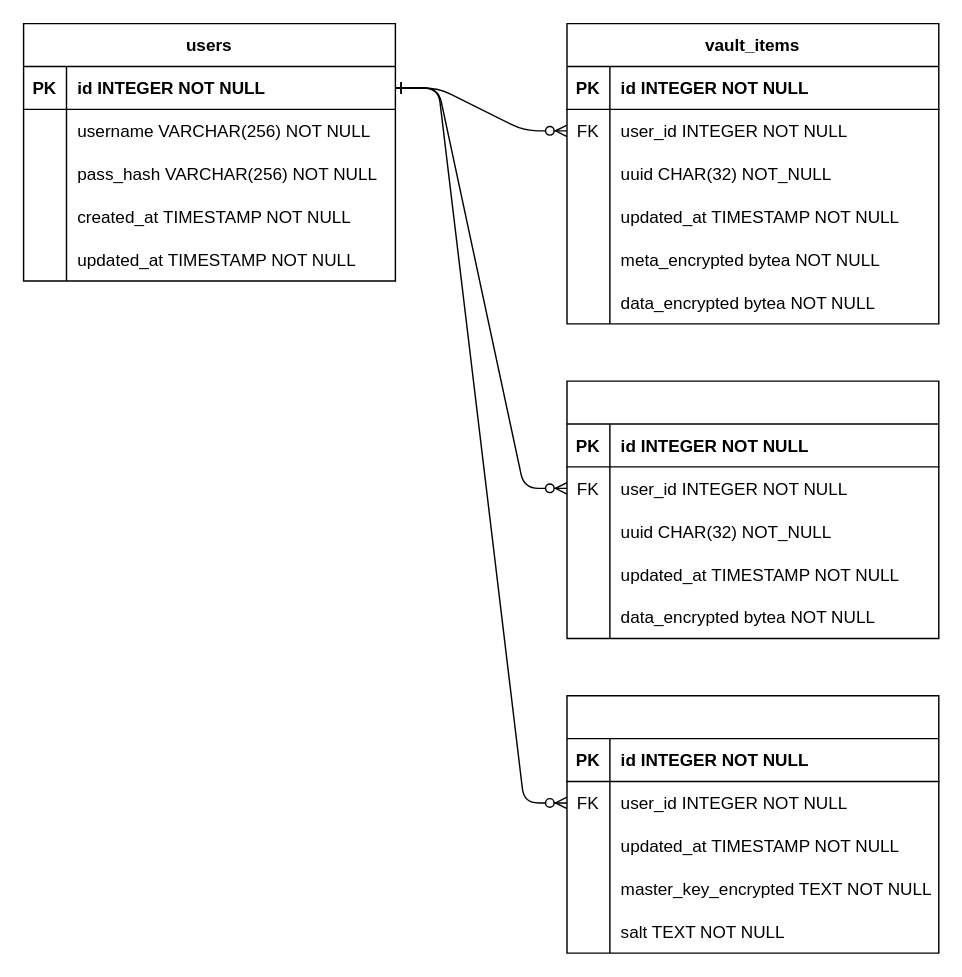
The diagram is 962 pixels wide and 977 high, and some of its shapes have lost their labels. The shapes that lost their labels are listed below. From the top down, each one's box as (x1, y1, x2, y2) in pixels, then its label:
(566, 380, 939, 638): vault_attachments
(566, 694, 939, 953): vault_keys
